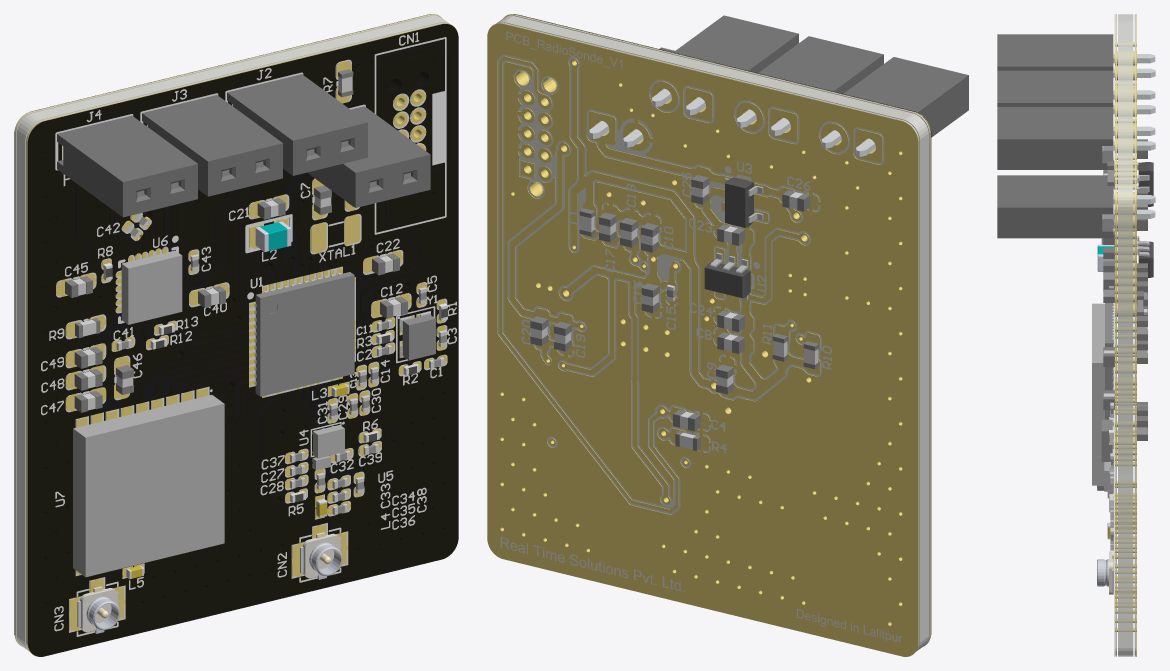
File: RadioSonde.glb
3 renders of one model, left to right at view 1: azimuth 30°, elevation 25°; view 2: azimuth 150°, elevation 25°; view 3: azimuth 270°, elevation 25°, orthographic. The views are drawn at different scales.
Visible parts, largest first — view 1: Solder_Top, ComponentBody.22, Top, ComponentBody.45, ComponentBody.121, Core.1, ComponentBody.123, ComponentBody.125, Core, ComponentBody.127, GND, ComponentBody.8 (+12 smaller); view 2: GND, Core.2, Core.1, 3V3, ComponentBody.121, Bottom, ComponentBody.123, ComponentBody.125, NetC4_1, CN1, Core, NetC19_1 (+8 smaller); view 3: Core.1, ComponentBody.127, ComponentBody.125, ComponentBody.121, ComponentBody.123, GND, ComponentBody.22, CN1, Core, Core.2, ComponentBody.45, ComponentBody.124 (+11 smaller).
Boxes of the visible parts, x1,y1,x2,y2 form: Solder_Top: (27, 24, 458, 656); ComponentBody.22: (73, 394, 224, 577); Top: (41, 32, 456, 636); ComponentBody.45: (255, 272, 354, 396); ComponentBody.121: (57, 115, 197, 217); Core.1: (16, 15, 448, 651); ComponentBody.123: (142, 95, 282, 196); ComponentBody.125: (227, 74, 367, 175); Core: (26, 22, 447, 649); ComponentBody.127: (307, 106, 430, 207); GND: (14, 14, 456, 656); ComponentBody.8: (121, 250, 182, 324); GND: (487, 14, 930, 656); Core.2: (497, 22, 919, 649); Core.1: (496, 15, 928, 651); 3V3: (560, 58, 811, 504); ComponentBody.121: (843, 57, 968, 137); Bottom: (500, 31, 902, 642); ComponentBody.123: (758, 36, 883, 93); ComponentBody.125: (673, 15, 798, 72); NetC4_1: (499, 56, 678, 512); CN1: (515, 71, 556, 196); Core: (505, 14, 930, 644); NetC19_1: (509, 142, 585, 329); Core.1: (1118, 14, 1133, 656); ComponentBody.127: (997, 175, 1113, 238); ComponentBody.125: (997, 107, 1113, 169); ComponentBody.121: (997, 34, 1113, 70); ComponentBody.123: (997, 70, 1113, 106); GND: (1114, 14, 1136, 656); ComponentBody.22: (1092, 303, 1113, 485); CN1: (1115, 203, 1136, 316); Core: (1115, 14, 1116, 656); Core.2: (1134, 14, 1135, 656); ComponentBody.45: (1105, 303, 1113, 419); ComponentBody.124: (1102, 126, 1155, 151).
Size of the model in its own units: 3.2 by 3.8 by 1.16.
